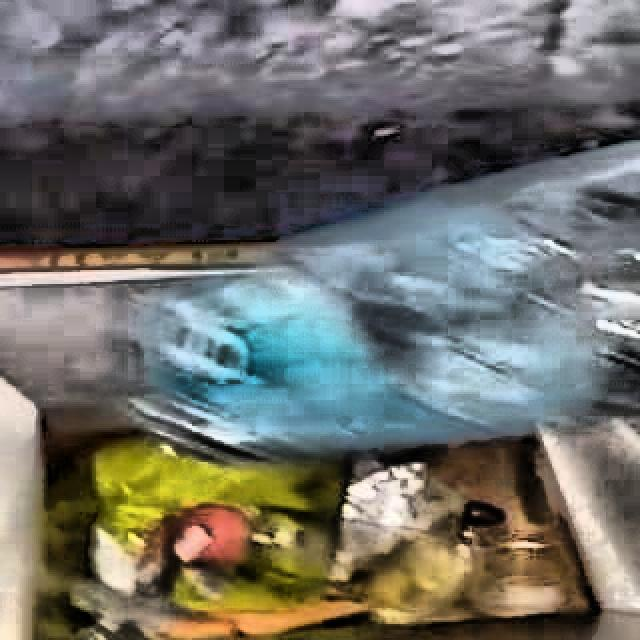plastic: (133, 146, 640, 460)
